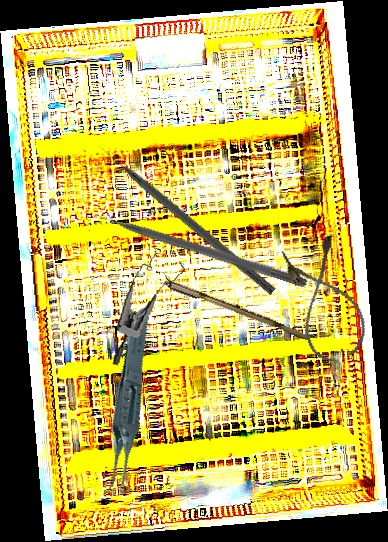Cannula: (278, 233, 374, 367)
Hook Surgical: (93, 139, 278, 297)
Pusher: (82, 204, 310, 289)
Speculum: (110, 242, 189, 374)
Surgical Spoon: (116, 261, 311, 341)
Tissue Forceps: (63, 309, 185, 501)
